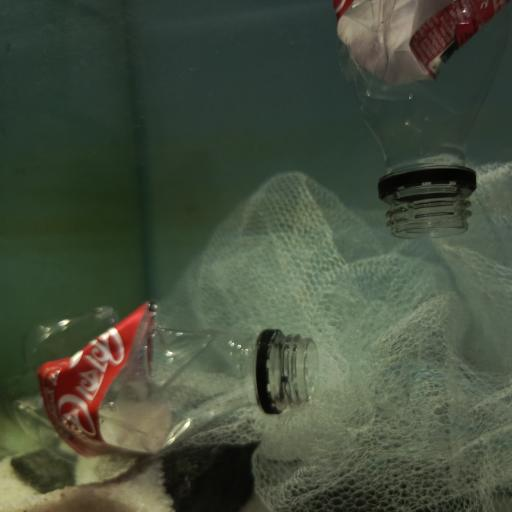net: (157, 163, 511, 512)
plastic_bottle: (2, 297, 315, 453), (335, 35, 510, 236)
